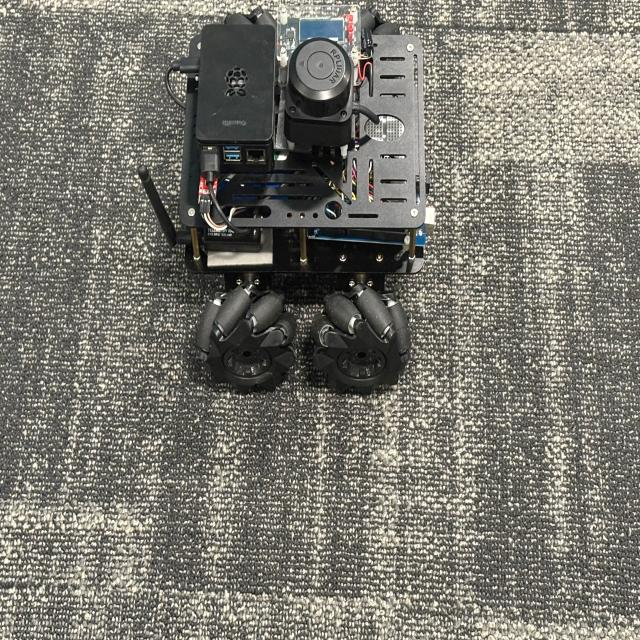ArduinoCar3: (158, 0, 439, 390)
